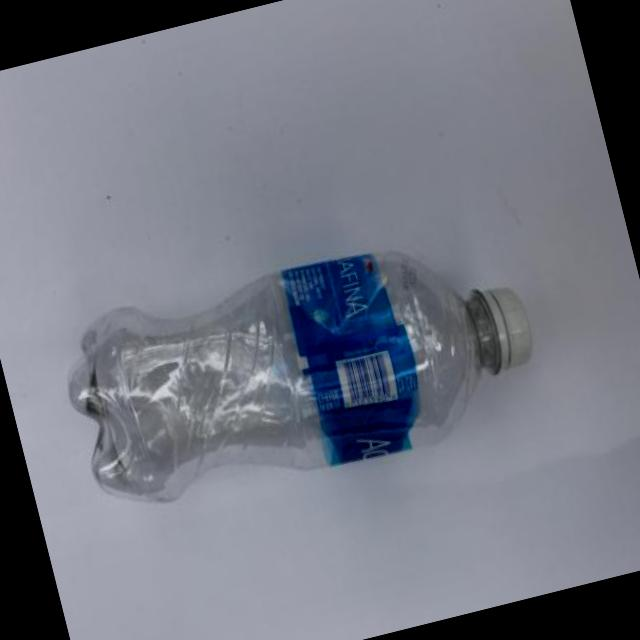Recycle: (47, 203, 555, 534)
